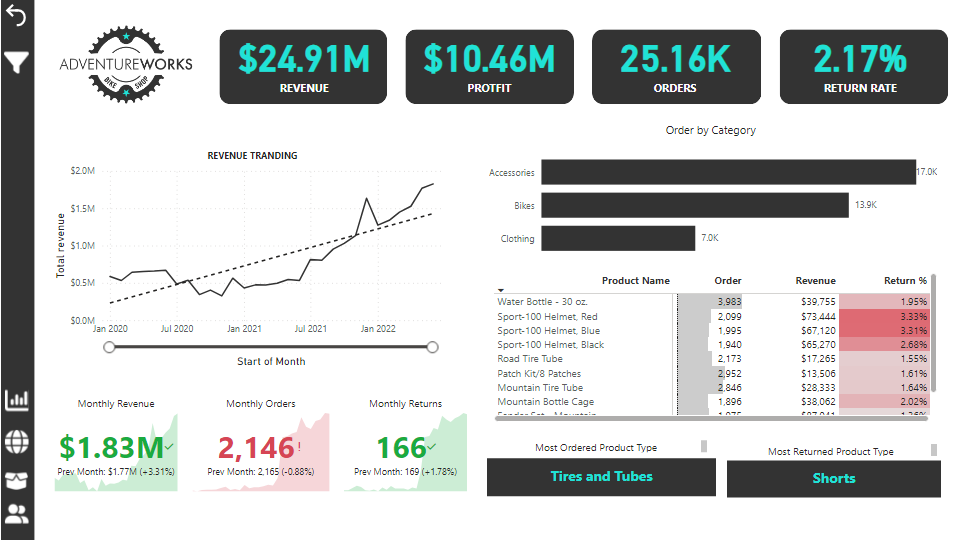

The page's visual inventory and layout, read from the dashboard file:
{"tool":"powerbi","page":{"name":"Exec Dashboard","canvas":[1280,720],"ordinal":0},"visuals":[{"type":"image","title":"AW logo","box":[52.9,10,228.6,152.9],"z":0},{"type":"card","fields":{"Values":["Measure Table.Total revenue"]},"box":[297.1,25.7,214.3,114.3],"z":0,"group":"g2"},{"type":"group","id":"g1","title":"KPI Background","box":[291.4,38.5,971.7,100],"z":0,"group":"g3"},{"type":"shape","box":[1038.1,38.5,225,100],"z":0,"group":"g1"},{"type":"actionButton","box":[1.2,569.4,100,39.8],"z":0,"group":"g4"},{"type":"shape","title":"Left Nav Background","box":[0,0,45,720],"z":1000},{"type":"group","id":"g2","title":"KPI Values","box":[297.1,25.7,955.7,114.3],"z":1000,"group":"g3"},{"type":"card","fields":{"Values":["Measure Table.total Profit"]},"box":[544.2,25.7,214.3,114.3],"z":1000,"group":"g2"},{"type":"shape","box":[291.4,38.5,224.3,100],"z":1000,"group":"g1"},{"type":"actionButton","box":[1.2,621.7,100,39.8],"z":1000,"group":"g4"},{"type":"group","id":"g3","title":"KPIs","box":[291.4,25.7,971.7,114.3],"z":2000},{"type":"card","fields":{"Values":["Measure Table.Total Order"]},"box":[791.4,25.7,214.3,114.3],"z":2000,"group":"g2"},{"type":"shape","box":[539.8,38.5,224.3,100],"z":2000,"group":"g1"},{"type":"actionButton","box":[1.2,665.1,100,39.8],"z":2000,"group":"g4"},{"type":"card","fields":{"Values":["Measure Table.Return rate"]},"box":[1038.5,25.7,214.3,114.3],"z":3000,"group":"g2"},{"type":"shape","box":[788.3,38.5,225.7,100],"z":3000,"group":"g1"},{"type":"lineChart","title":"REVENUE  TRANDING","fields":{"Y":["Measure Table.Total revenue"],"Category":["Calendar Lookup.Year","Calendar Lookup.Start of Quarter","Calendar Lookup.Start of Month"]},"box":[66.2,198.6,539.2,295.9],"z":3000},{"type":"actionButton","box":[1.2,514,100,39.8],"z":3000,"group":"g4"},{"type":"kpi","title":"Monthly Revenue","fields":{"Indicator":["Measure Table.Total revenue"],"TrendLine":["Calendar Lookup.Start of Month"],"Goal":["Measure Table.Previuos month revenue"]},"box":[66,528,175,133],"z":4000},{"type":"kpi","title":"Monthly Orders ","fields":{"TrendLine":["Calendar Lookup.Start of Month"],"Indicator":["Measure Table.Total Order"],"Goal":["Measure Table.Previous Months Orders"]},"box":[250,528,193,133],"z":5000},{"type":"kpi","title":"Monthly Returns","fields":{"TrendLine":["Calendar Lookup.Start of Month"],"Indicator":["Measure Table.Total Returns"],"Goal":["Measure Table.Previous Months Return"]},"box":[452,528,175,133],"z":6000},{"type":"clusteredBarChart","title":"Order by Category","fields":{"Category":["Product Categories Lookup.CategoryName"],"Y":["Measure Table.Total Order"]},"box":[639.5,163,613.6,197.5],"z":7000},{"type":"pivotTable","fields":{"Rows":["Product Lookups.ProductName"],"Values":["Measure Table.Total Order","Measure Table.Total revenue","Measure Table.Return rate"]},"box":[651.9,360.5,601.2,207.4],"z":8000},{"type":"card","fields":{"Values":["Min(Product Subcategories Lookup.SubcategoryName)"]},"box":[648.1,611.1,304.9,50.6],"z":9000},{"type":"textbox","box":[648.1,582.7,298.8,25.9],"z":10000},{"type":"card","fields":{"Values":["Min(Product Subcategories Lookup.SubcategoryName)"]},"box":[967.9,613.6,285.2,50.6],"z":11000},{"type":"textbox","box":[967.9,587.7,285.2,25.9],"z":12000},{"type":"actionButton","box":[0,0,100,40],"z":13000},{"type":"group","id":"g4","title":"NAV Buttons","box":[1.2,514,100,190.9],"z":14000},{"type":"actionButton","box":[0,62.7,44.6,41],"z":15000}]}

Visuals, with their boxes on the page's 1280x720 design canvas (x1, y1, x2, y2). These are canvas units, not pixel positions in the 962x541 screenshot, which may show the page scaled, cropped or inside an application window:
"AW logo" image: <bbox>53, 10, 282, 163</bbox>
card - Measure Table.Total revenue: <bbox>297, 26, 511, 140</bbox>
"KPI Background" group: <bbox>291, 38, 1263, 138</bbox>
shape: <bbox>1038, 38, 1263, 138</bbox>
actionButton: <bbox>1, 569, 101, 609</bbox>
"Left Nav Background" shape: <bbox>0, 0, 45, 720</bbox>
"KPI Values" group: <bbox>297, 26, 1253, 140</bbox>
card - Measure Table.total Profit: <bbox>544, 26, 758, 140</bbox>
shape: <bbox>291, 38, 516, 138</bbox>
actionButton: <bbox>1, 622, 101, 662</bbox>
"KPIs" group: <bbox>291, 26, 1263, 140</bbox>
card - Measure Table.Total Order: <bbox>791, 26, 1006, 140</bbox>
shape: <bbox>540, 38, 764, 138</bbox>
actionButton: <bbox>1, 665, 101, 705</bbox>
card - Measure Table.Return rate: <bbox>1038, 26, 1253, 140</bbox>
shape: <bbox>788, 38, 1014, 138</bbox>
"REVENUE  TRANDING" lineChart: <bbox>66, 199, 605, 494</bbox>
actionButton: <bbox>1, 514, 101, 554</bbox>
"Monthly Revenue" kpi: <bbox>66, 528, 241, 661</bbox>
"Monthly Orders " kpi: <bbox>250, 528, 443, 661</bbox>
"Monthly Returns" kpi: <bbox>452, 528, 627, 661</bbox>
"Order by Category" clusteredBarChart: <bbox>640, 163, 1253, 360</bbox>
pivotTable - Product Lookups.ProductName x Measure Table.Total Order: <bbox>652, 360, 1253, 568</bbox>
card - Min(Product Subcategories Lookup.SubcategoryName): <bbox>648, 611, 953, 662</bbox>
textbox: <bbox>648, 583, 947, 609</bbox>
card - Min(Product Subcategories Lookup.SubcategoryName): <bbox>968, 614, 1253, 664</bbox>
textbox: <bbox>968, 588, 1253, 614</bbox>
actionButton: <bbox>0, 0, 100, 40</bbox>
"NAV Buttons" group: <bbox>1, 514, 101, 705</bbox>
actionButton: <bbox>0, 63, 45, 104</bbox>
